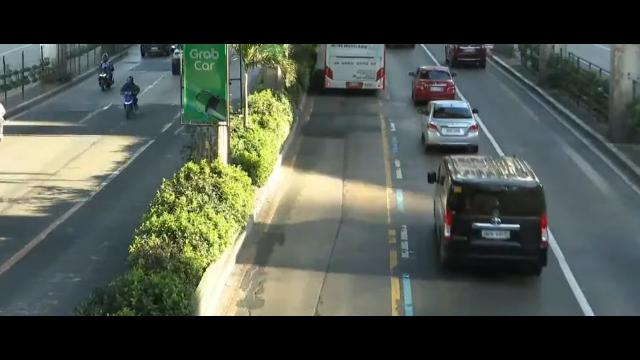bus: (320, 44, 387, 95)
car: (420, 100, 483, 149), (408, 66, 458, 104)
motorcycle: (120, 77, 139, 121), (99, 52, 115, 91)
van: (428, 154, 548, 273)
